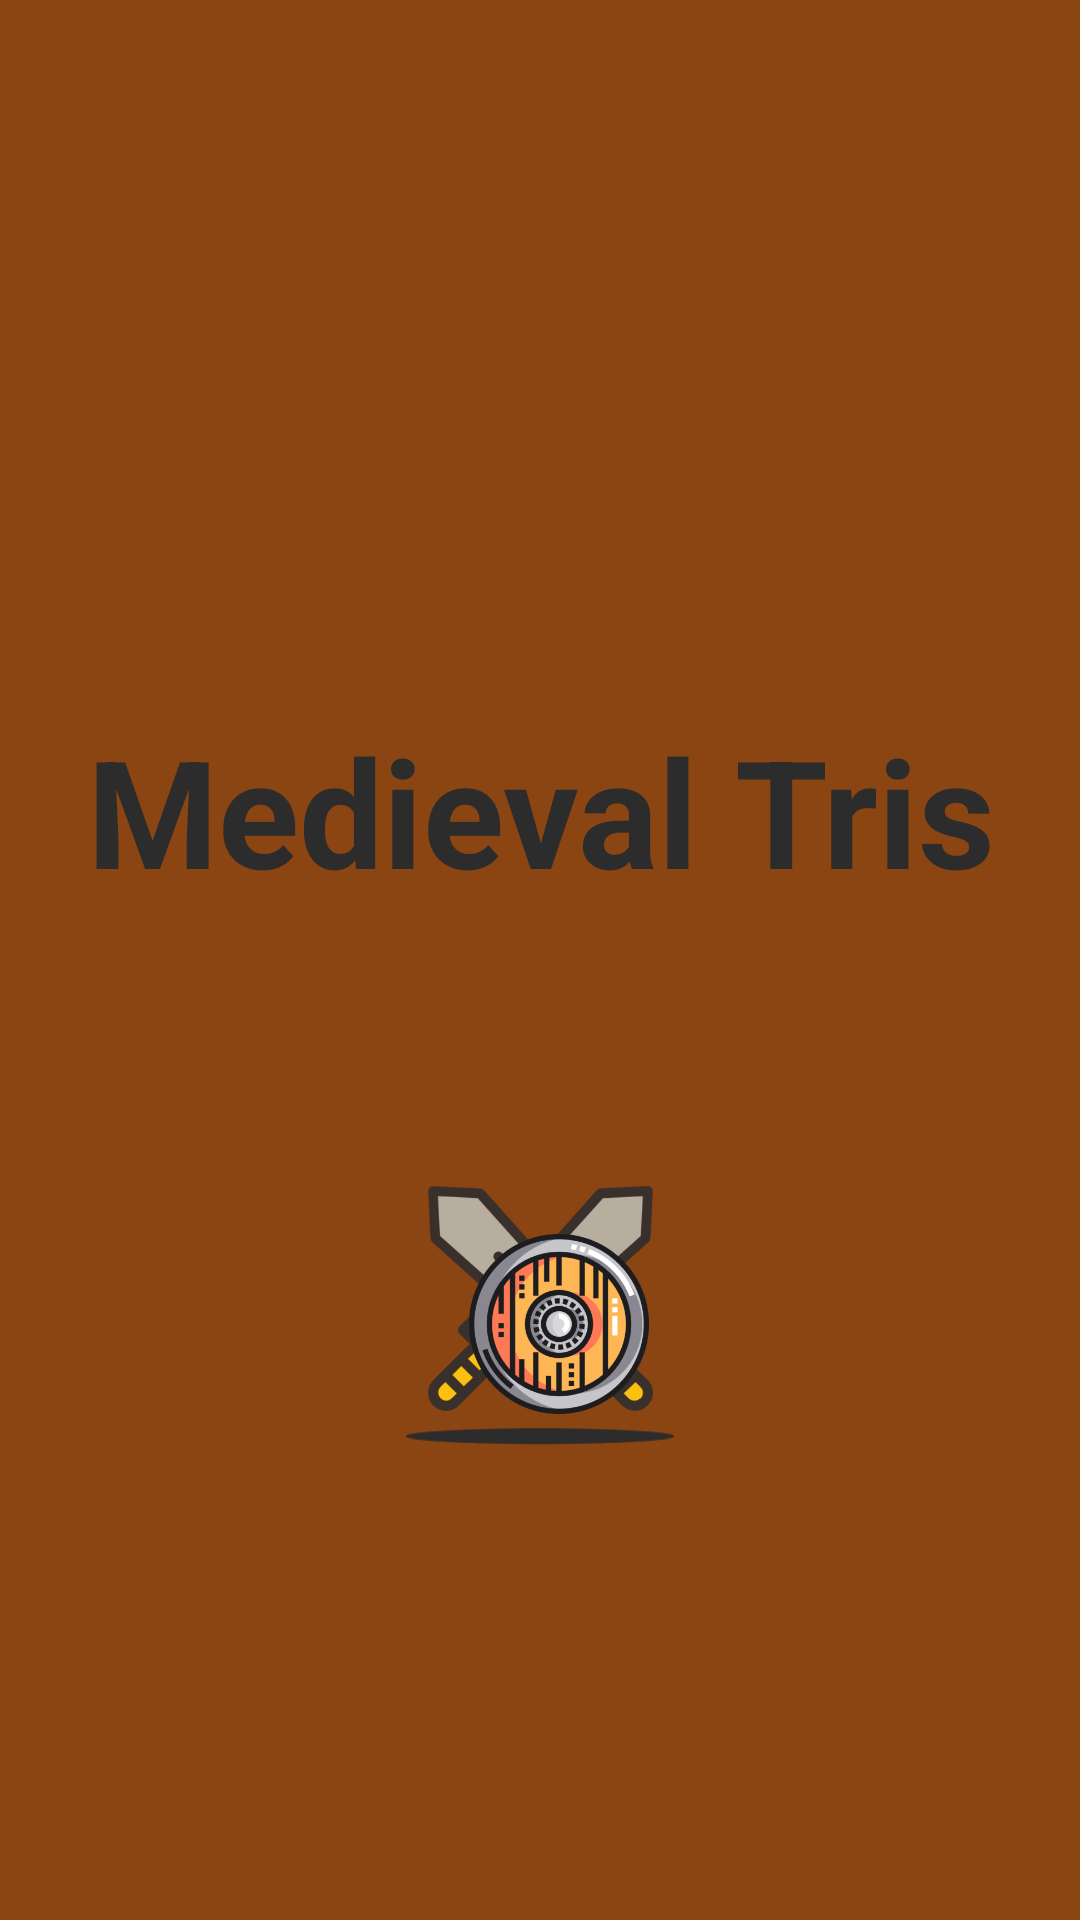

Icon click points for this 1080 × 1920 phone screenshot, format (x=x, y=y):
shield: (x=559, y=1324)
